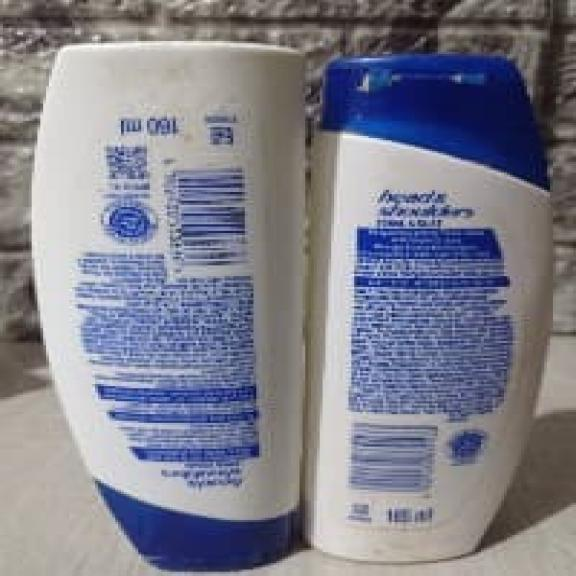Plastik: (32, 43, 298, 571), (308, 55, 551, 561)
